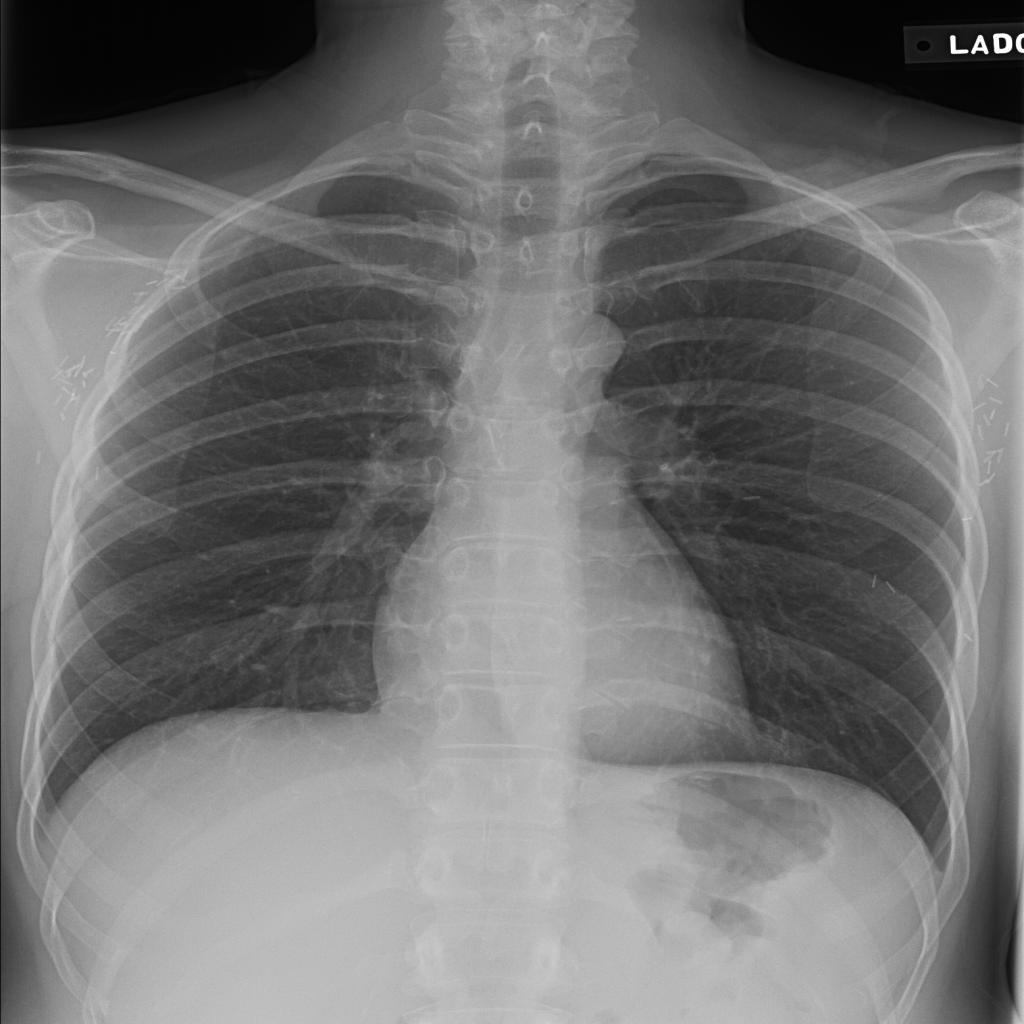Nodule: (48, 300, 107, 330), (26, 328, 84, 357)
